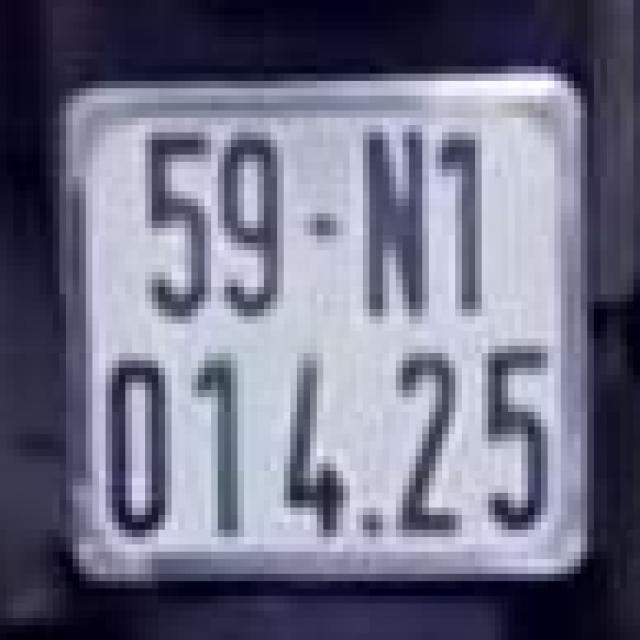0: (106, 338, 178, 544)
1: (432, 107, 505, 320), (188, 338, 254, 544)
2: (383, 331, 462, 559)
4: (270, 342, 363, 541)
5: (475, 327, 554, 548), (138, 118, 218, 331)
9: (214, 114, 294, 327)
N: (353, 110, 426, 324)
